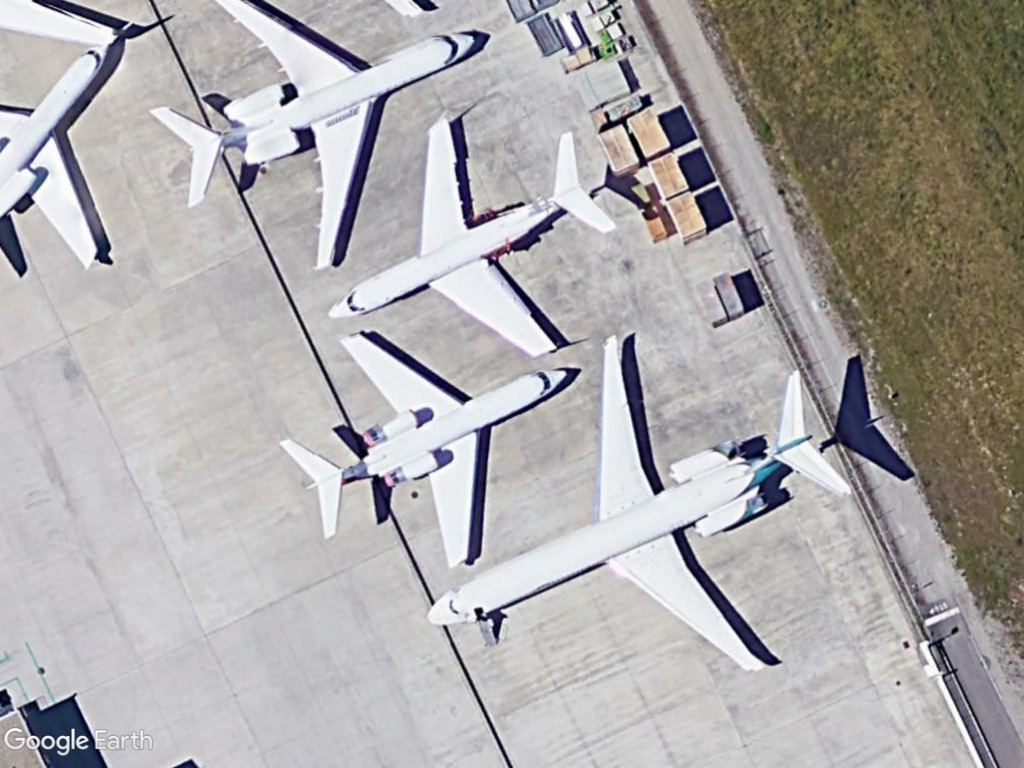airliner: (319, 113, 620, 360)
chartered: (421, 329, 854, 677), (143, 0, 484, 274), (275, 334, 573, 572)
